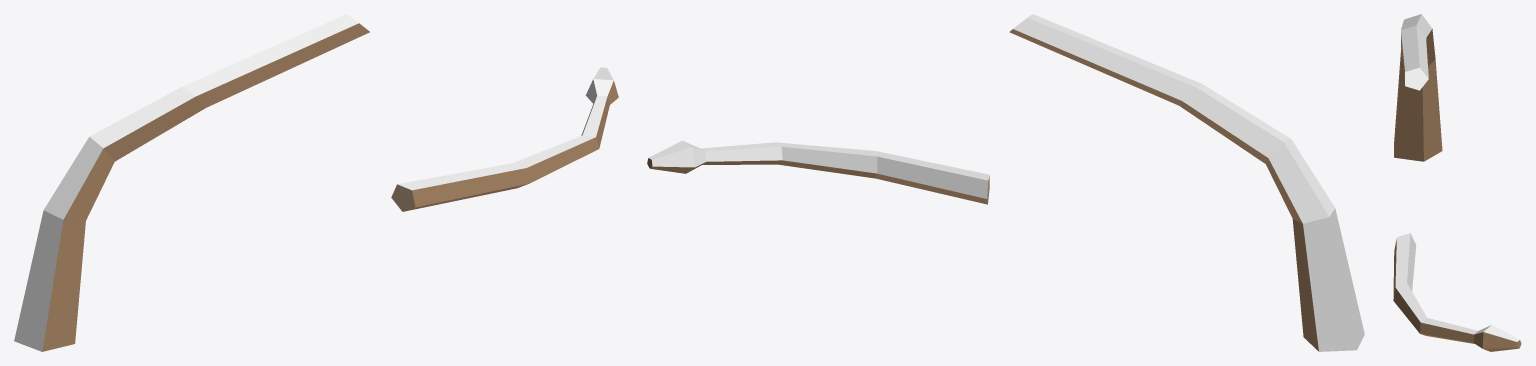
File: Palm_Tree_NoLeaves_crk_m_Snow_04.fbx
The picture shows the model from 3 angles, left to right: view 1: azimuth 30°, elevation 25°; view 2: azimuth 150°, elevation 25°; view 3: azimuth 270°, elevation 25°; orthographic projection. The views are drawn at different scales.
Parts seen in each view (by area): view 1: Palm_Tree_NoLeaves_crk_m_Snow_04; view 2: Palm_Tree_NoLeaves_crk_m_Snow_04; view 3: Palm_Tree_NoLeaves_crk_m_Snow_04.
Part boxes in pixels (<box>): Palm_Tree_NoLeaves_crk_m_Snow_04: <box>14,14,618,351</box>; Palm_Tree_NoLeaves_crk_m_Snow_04: <box>647,14,1364,351</box>; Palm_Tree_NoLeaves_crk_m_Snow_04: <box>1393,14,1521,351</box>.
Bounding box in the file's own units: 487 × 178 × 99.68.
